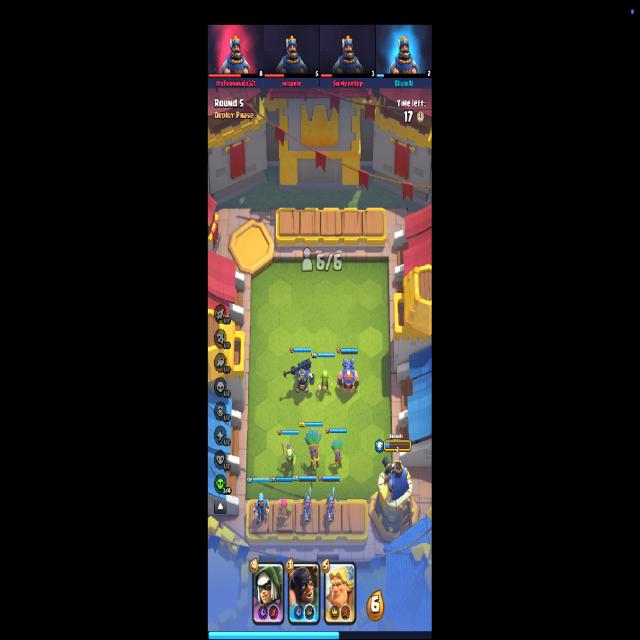archer: (278, 498, 292, 522)
card_bandit: (252, 561, 285, 626)
card_executioner: (288, 560, 320, 625)
card_golden_knight: (324, 561, 356, 625)
dart_goblin: (304, 429, 322, 471), (330, 440, 344, 470)
electro_giant: (336, 358, 359, 393)
goblin: (317, 370, 333, 392)
musketeer: (302, 486, 314, 522), (326, 487, 336, 525)
skeleton_king: (284, 358, 314, 396)
spear_goblin: (281, 442, 296, 469)
wizard: (253, 492, 270, 524)
